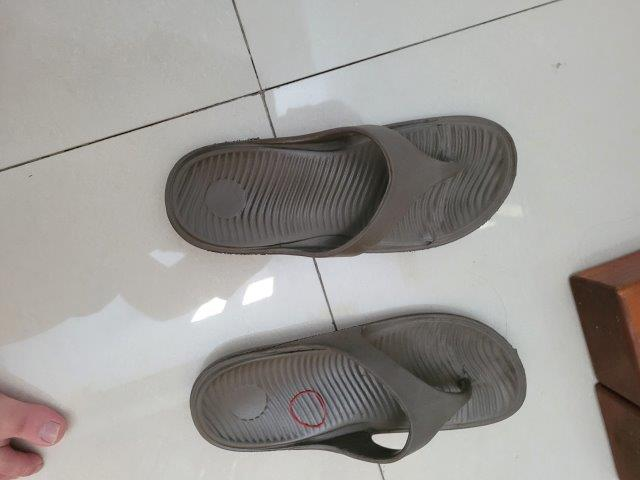karet: (290, 391, 327, 431)
